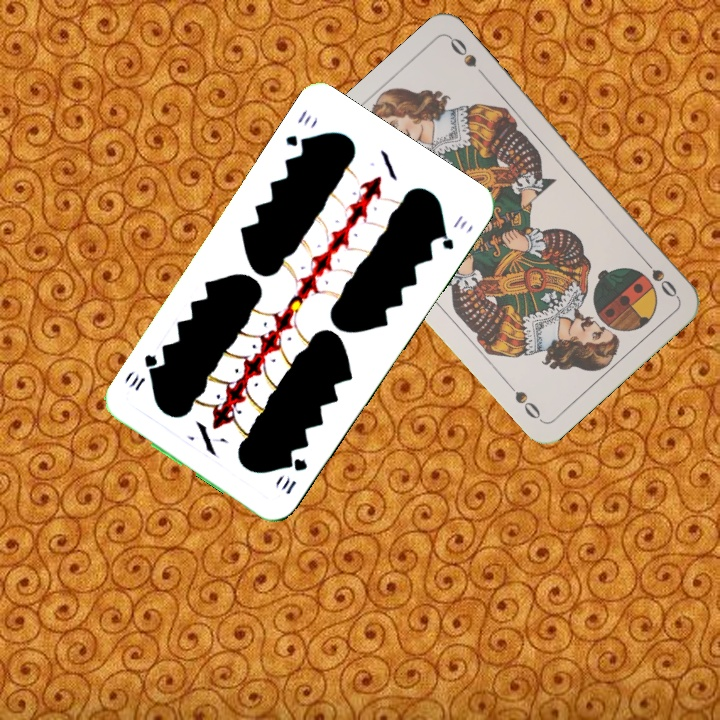G10: (281, 105, 315, 152), (278, 454, 310, 497)
SO: (636, 251, 680, 300)
